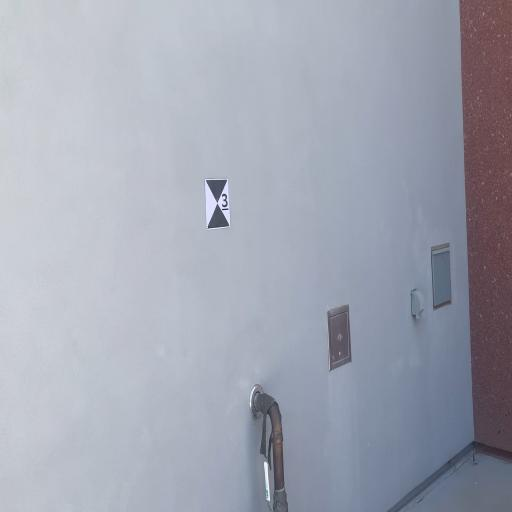target3: (204, 178, 230, 230)
